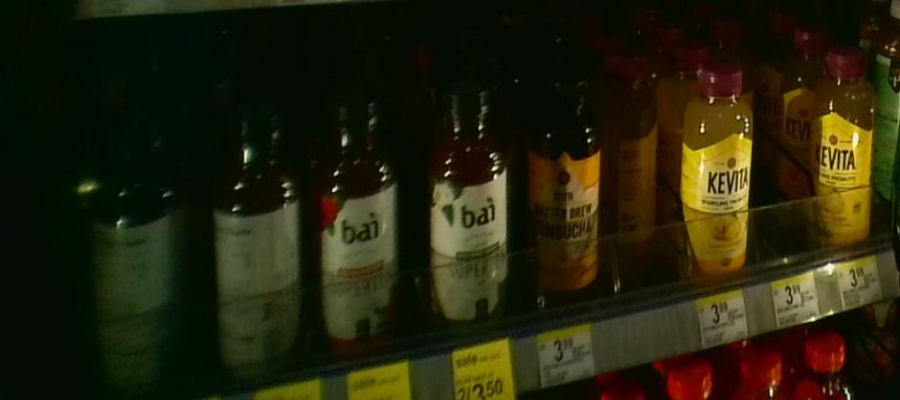bottle: (83, 88, 191, 388), (203, 92, 303, 377), (312, 92, 403, 368), (414, 75, 513, 327), (519, 65, 599, 314), (680, 61, 754, 279), (811, 48, 875, 253), (603, 49, 659, 254)
